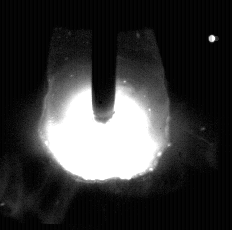arame: (93, 0, 117, 123)
poca: (37, 0, 170, 230)
